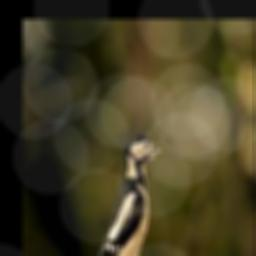Woodpecker: (97, 135, 164, 256)
